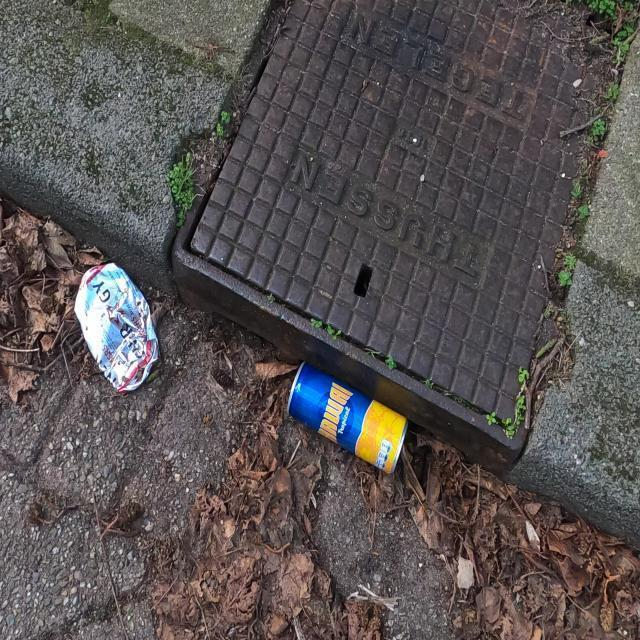Can-Metal: (284, 358, 410, 477), (72, 260, 164, 396)
